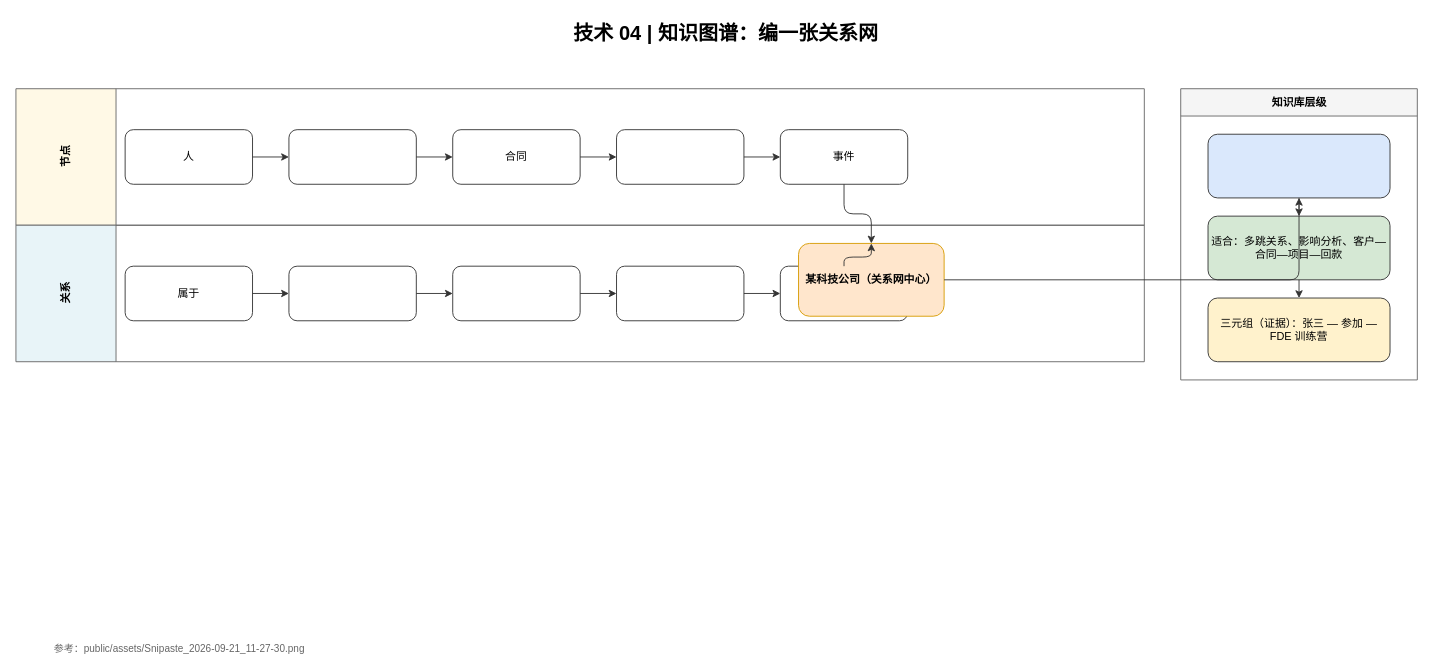
The diagram is 1433 pixels wide and 672 high, and some of its shapes have lost their labels. The centre of each missing label's shape, as x and y in pixels:
"产品" goes at (680,156).
"像思维导图，但关系更严格、可以被机器查询" goes at (1298,165).
"公司" goes at (352,156).
"影响" goes at (680,293).
"服务" goes at (516,293).
"签署" goes at (352,293).
